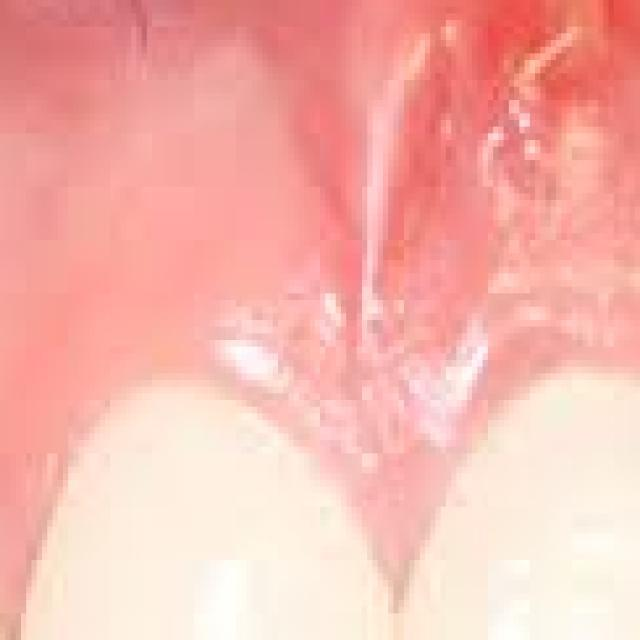abscess: (126, 0, 640, 320)
